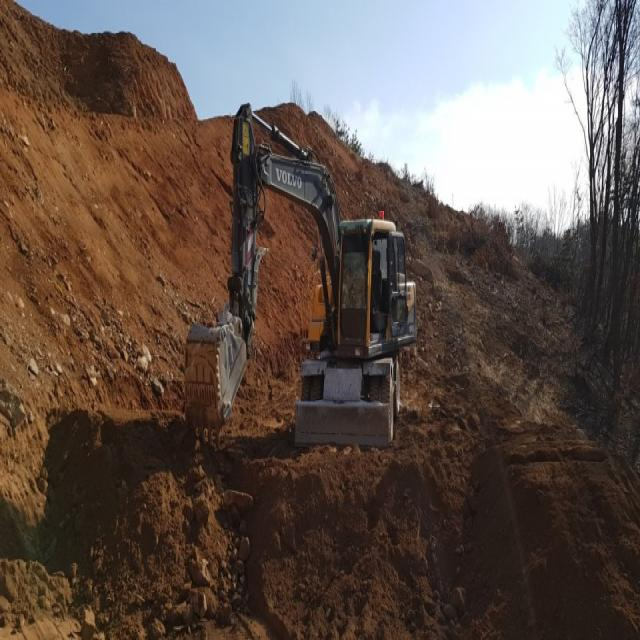excavator: (185, 103, 418, 449)
